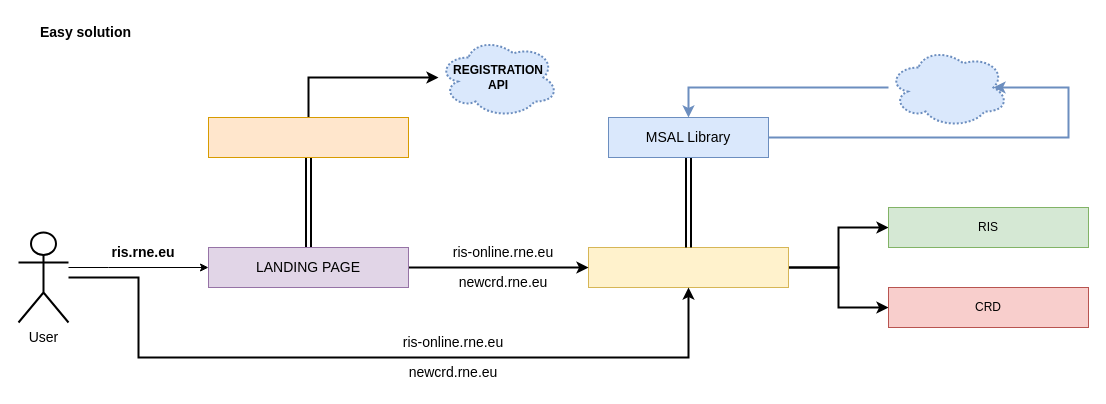
Some shapes in this 1106 by 404 pixel diagram are drawn without their labels. Each missing label, with the centre of its shape:
"AZURE" goes at pixel 948 87.
"Host Application" goes at pixel 688 267.
"REGISTRATION" goes at pixel 308 137.
